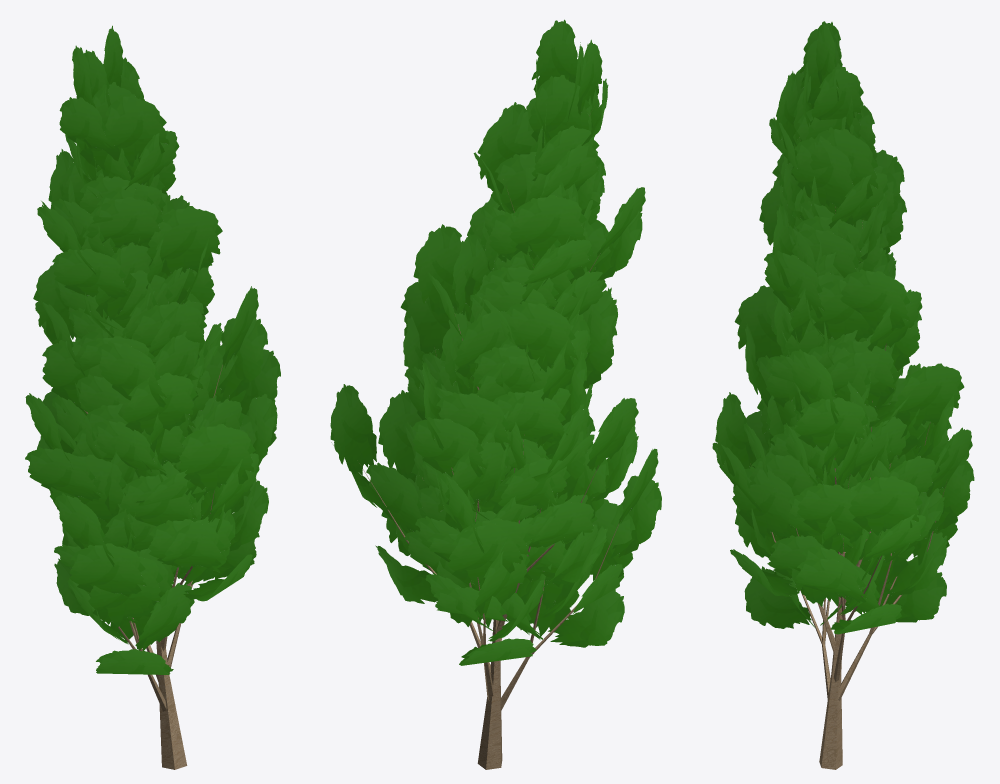
The model's file is Tree.fbx.
3 renders of one model, left to right at view 1: azimuth 30°, elevation 25°; view 2: azimuth 150°, elevation 25°; view 3: azimuth 270°, elevation 25°, orthographic. The views are drawn at different scales.
Parts seen in each view (by area): view 1: WL_YHH_MO_ZW_XiaoShu03_ShuYe, WL_YHH_MO_ZW_XiaoShu03_ShuGan; view 2: WL_YHH_MO_ZW_XiaoShu03_ShuYe, WL_YHH_MO_ZW_XiaoShu03_ShuGan; view 3: WL_YHH_MO_ZW_XiaoShu03_ShuYe, WL_YHH_MO_ZW_XiaoShu03_ShuGan.
Part boxes in pixels (box(x1,y1,x2,y2)): WL_YHH_MO_ZW_XiaoShu03_ShuYe: box(25, 25, 280, 674); WL_YHH_MO_ZW_XiaoShu03_ShuGan: box(84, 365, 222, 769); WL_YHH_MO_ZW_XiaoShu03_ShuYe: box(330, 19, 661, 665); WL_YHH_MO_ZW_XiaoShu03_ShuGan: box(359, 114, 618, 769); WL_YHH_MO_ZW_XiaoShu03_ShuYe: box(712, 21, 974, 634); WL_YHH_MO_ZW_XiaoShu03_ShuGan: box(771, 207, 945, 769).
Bounding box in the file's own units: 971 × 2370 × 849.
